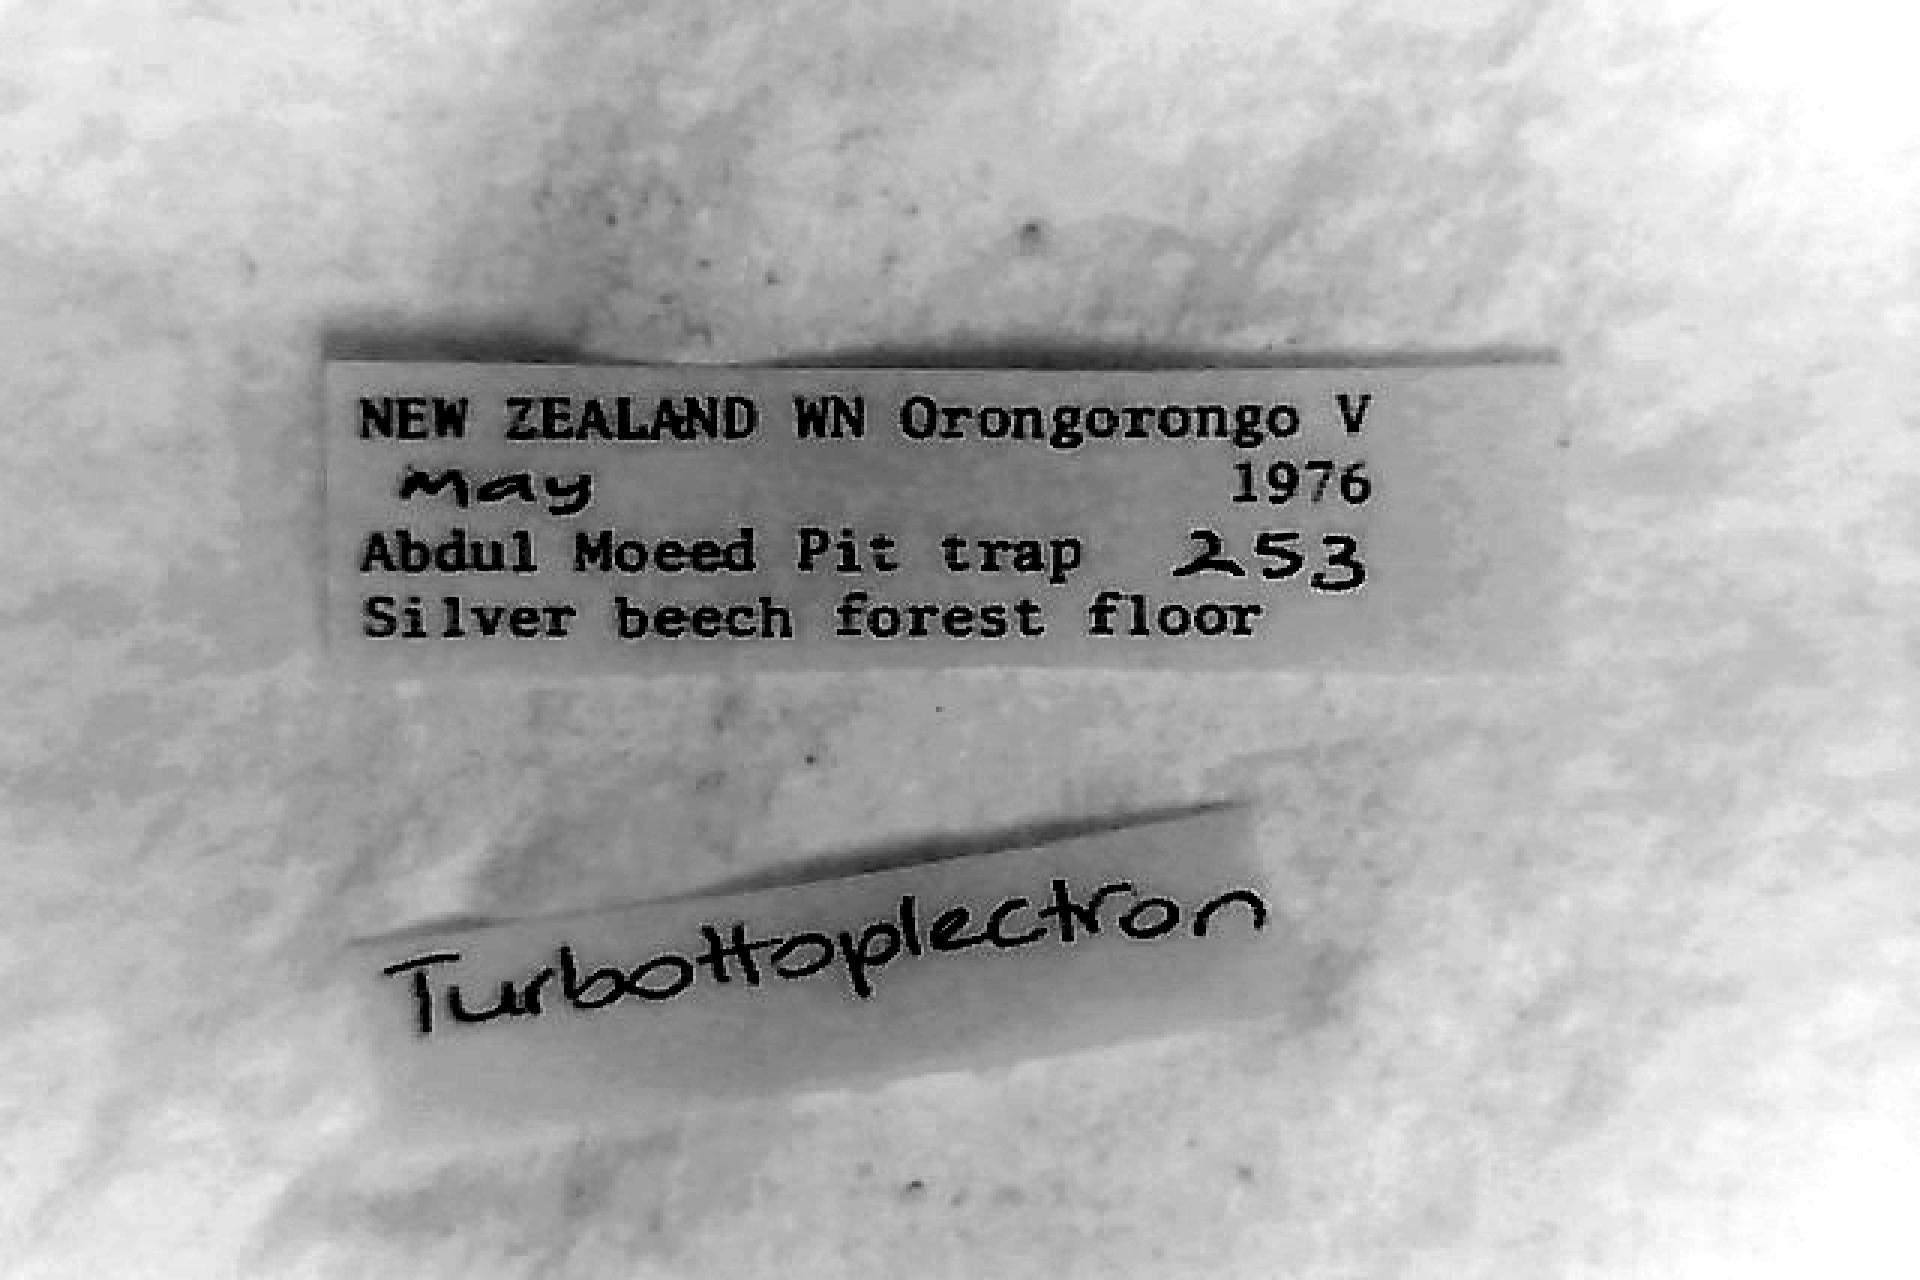hand_label: (356, 807, 1282, 1135)
mixed_label: (330, 360, 1560, 670)
